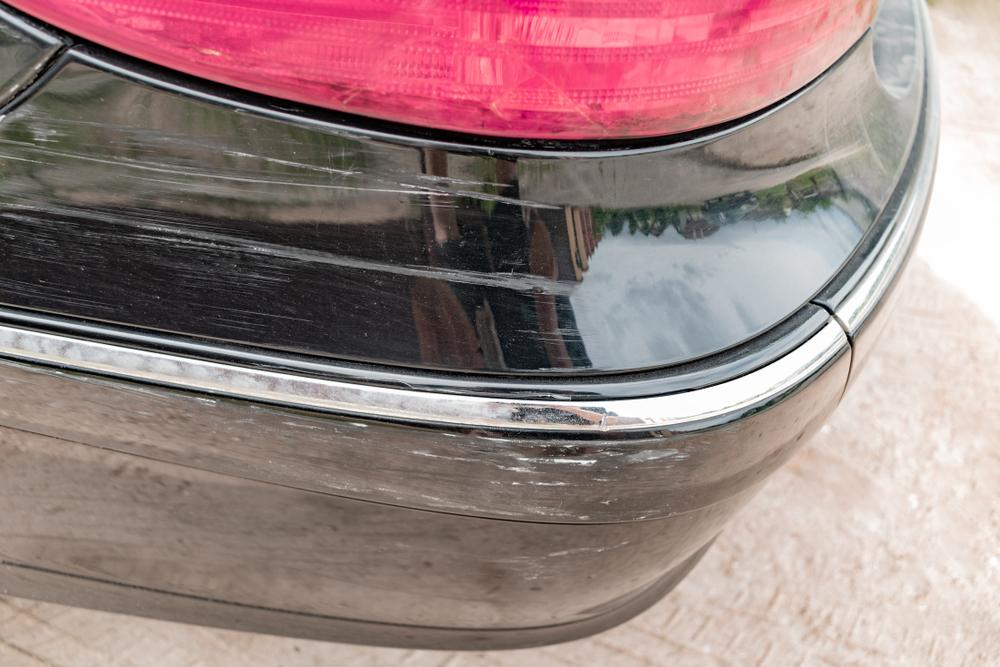scratch: (0, 106, 612, 377), (0, 359, 721, 582)
